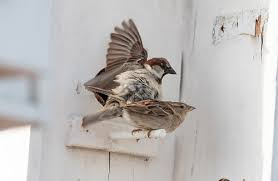hsparrow: (79, 17, 179, 98), (79, 98, 198, 147)
